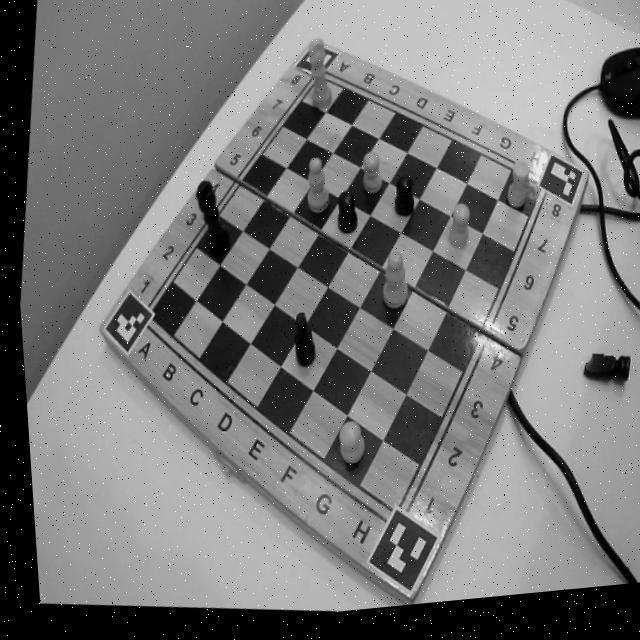chessboard: (145, 83, 540, 520)
